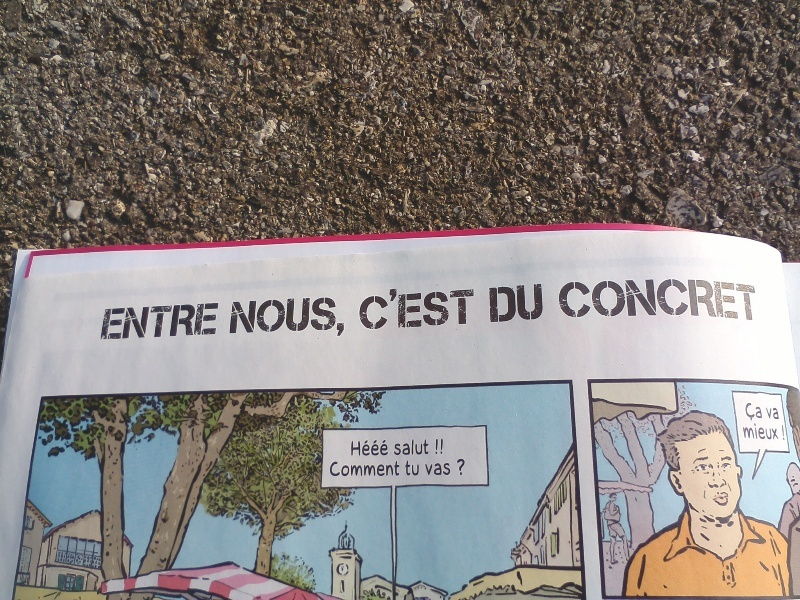text: (369, 282, 384, 332), (385, 282, 400, 332), (401, 282, 416, 332), (417, 282, 432, 332), (433, 282, 448, 332), (449, 282, 464, 332), (529, 280, 545, 324), (241, 295, 256, 341), (257, 295, 272, 341), (273, 295, 288, 341), (289, 295, 304, 341), (305, 295, 320, 341), (321, 295, 336, 341), (497, 280, 512, 324), (513, 280, 528, 324), (561, 276, 576, 320), (577, 276, 592, 320), (593, 276, 608, 320), (609, 276, 624, 320), (625, 276, 640, 320), (641, 276, 656, 320), (657, 276, 672, 320), (673, 276, 688, 320), (689, 276, 704, 320), (705, 276, 720, 320), (721, 276, 736, 320), (737, 276, 752, 320), (113, 302, 128, 341), (129, 302, 144, 341), (145, 302, 160, 341), (161, 302, 176, 341), (177, 302, 192, 341), (193, 302, 208, 341), (465, 282, 476, 332), (358, 282, 368, 332), (209, 302, 221, 341), (337, 295, 346, 341), (233, 295, 240, 341), (105, 302, 112, 341), (337, 459, 352, 477), (353, 459, 368, 477), (369, 459, 384, 477), (385, 459, 400, 477), (353, 439, 368, 457), (369, 439, 384, 457), (753, 422, 768, 440), (490, 280, 496, 324), (401, 439, 416, 456), (417, 439, 431, 456), (435, 438, 448, 456), (753, 401, 764, 422), (433, 461, 448, 476), (404, 460, 416, 477), (742, 422, 752, 440), (769, 422, 779, 440), (753, 276, 757, 320), (327, 459, 336, 477), (769, 406, 780, 420), (457, 456, 464, 477), (557, 276, 560, 320), (746, 401, 752, 422), (778, 424, 784, 444), (394, 439, 400, 456), (426, 461, 432, 476), (785, 424, 789, 444), (385, 439, 389, 457), (449, 461, 453, 476), (417, 460, 420, 477), (766, 406, 768, 420), (465, 456, 466, 477), (401, 459, 402, 477)
